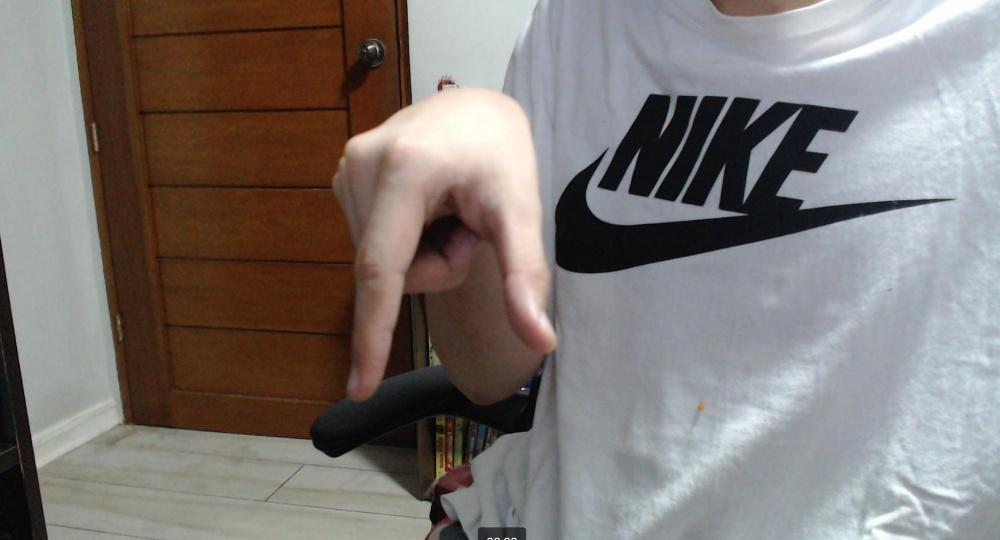q: (330, 85, 559, 397)
